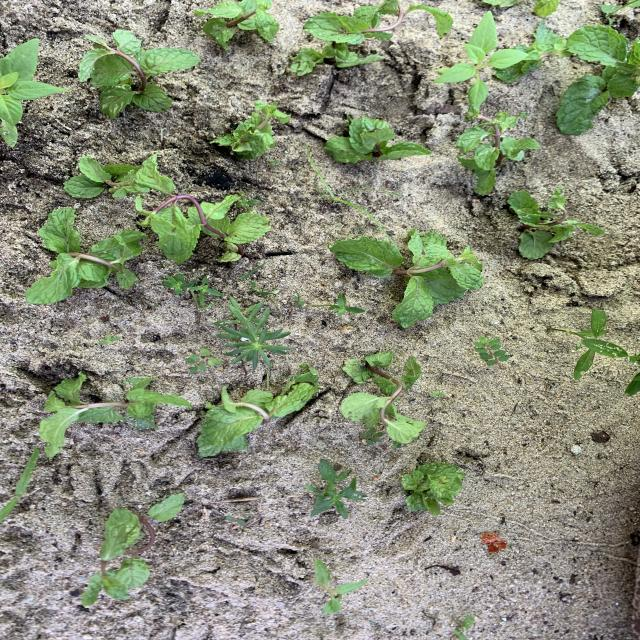crop: (136, 153, 269, 264), (331, 230, 483, 326), (40, 375, 188, 455), (296, 1, 451, 74), (28, 209, 145, 302), (84, 495, 183, 602), (80, 31, 199, 117), (199, 371, 317, 455), (557, 26, 639, 134), (341, 352, 424, 444), (456, 106, 539, 195), (508, 189, 603, 257), (324, 116, 430, 163), (213, 101, 291, 159), (194, 1, 279, 49), (64, 156, 146, 198), (402, 463, 464, 515)
weed: (434, 11, 528, 110), (0, 39, 67, 147), (309, 148, 382, 227), (561, 308, 640, 380), (219, 299, 289, 367), (305, 461, 365, 517), (311, 560, 367, 614), (0, 449, 37, 520), (163, 273, 212, 308), (474, 337, 510, 364), (188, 348, 223, 372), (600, 2, 639, 23), (329, 294, 364, 315), (454, 615, 475, 639), (239, 262, 265, 279), (361, 427, 383, 443), (238, 195, 262, 209), (625, 373, 640, 395), (298, 364, 318, 380), (226, 512, 253, 523), (380, 190, 403, 197), (99, 336, 120, 343), (293, 296, 304, 306), (268, 158, 279, 167), (368, 515, 383, 521), (431, 390, 443, 395), (519, 112, 527, 118)
